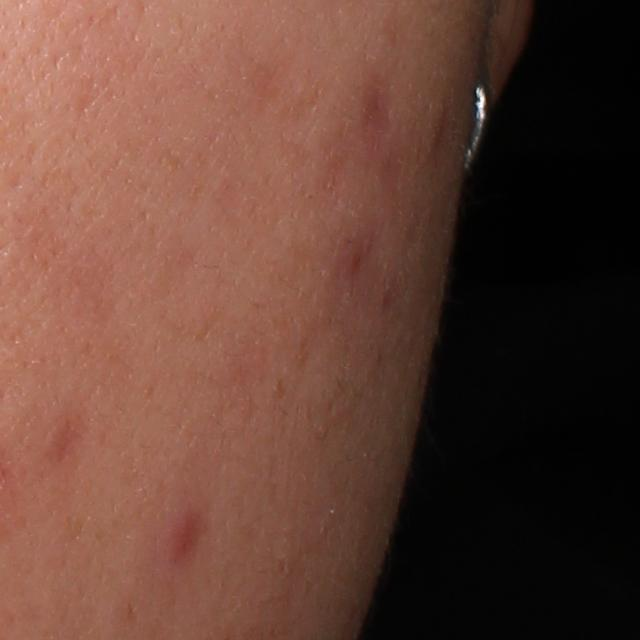papule: (159, 506, 206, 567)
